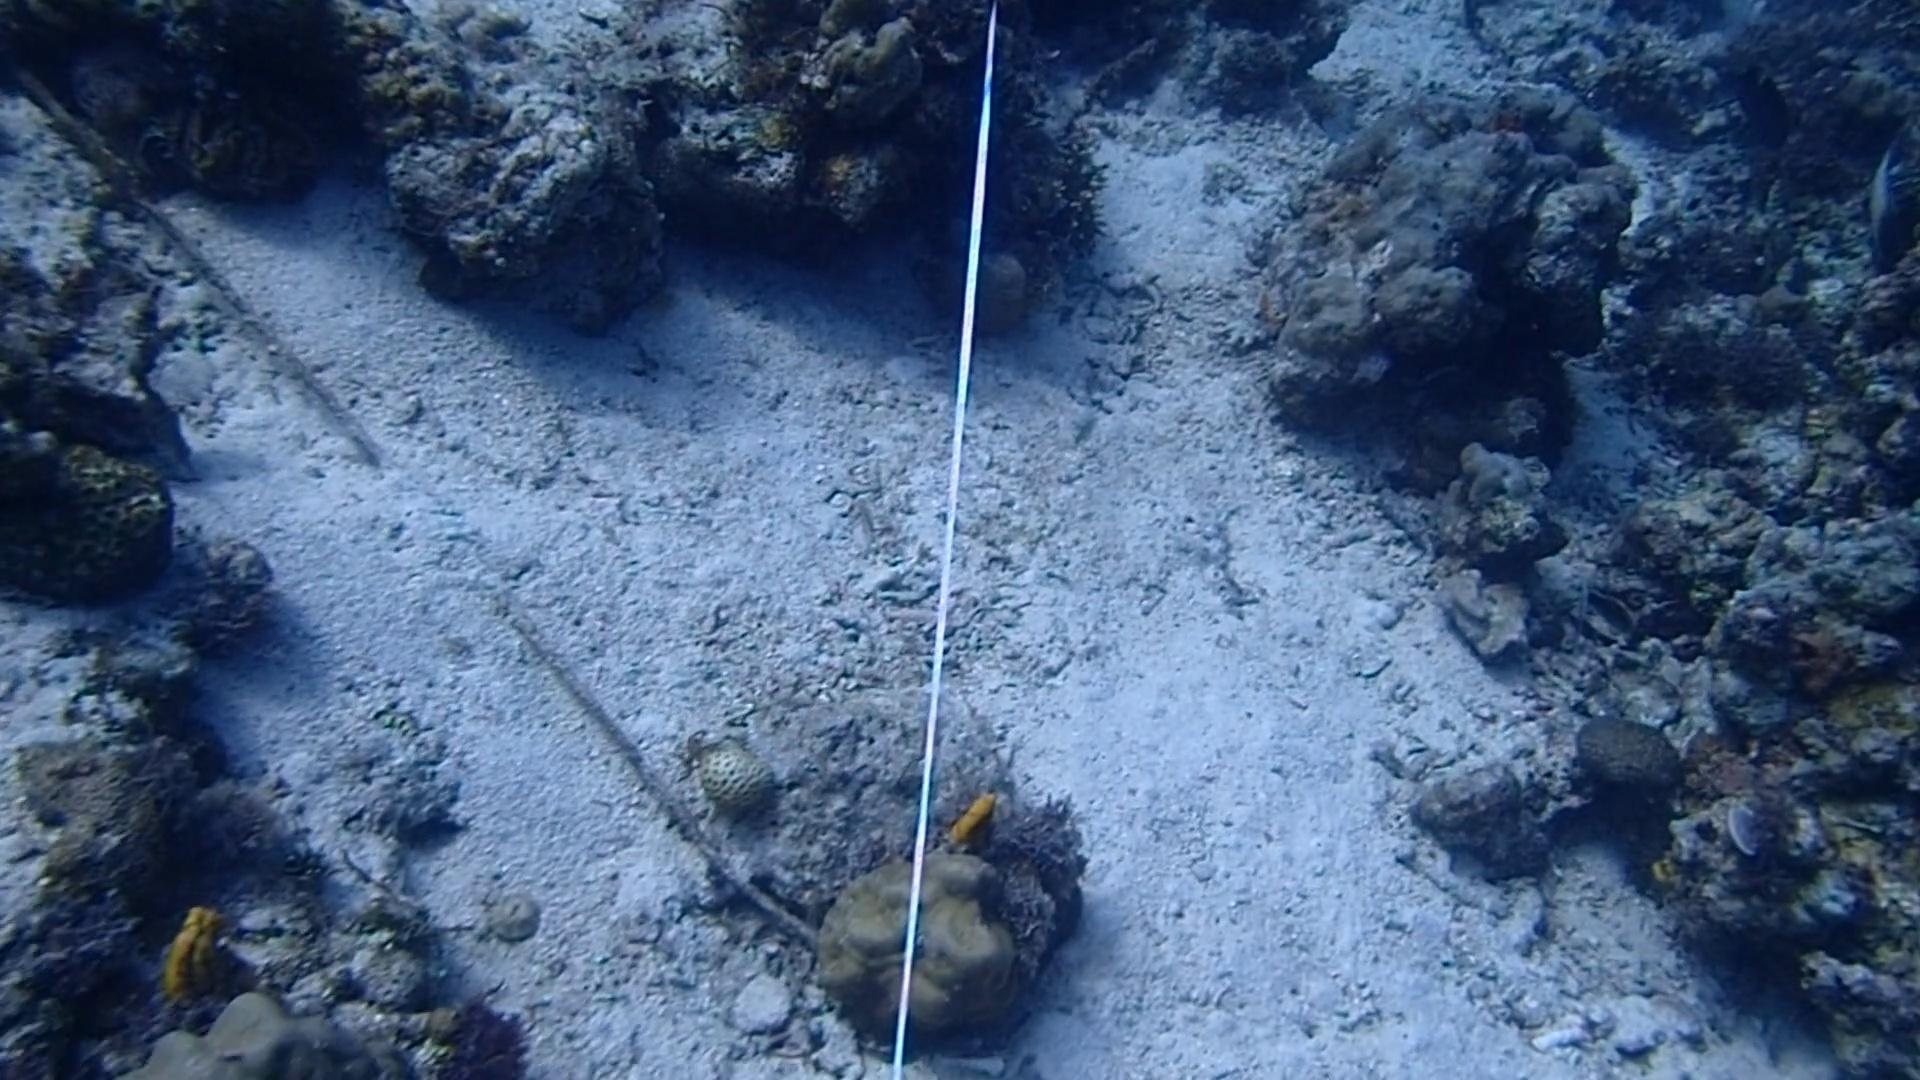Dark Fish: (1720, 62, 1799, 153)
